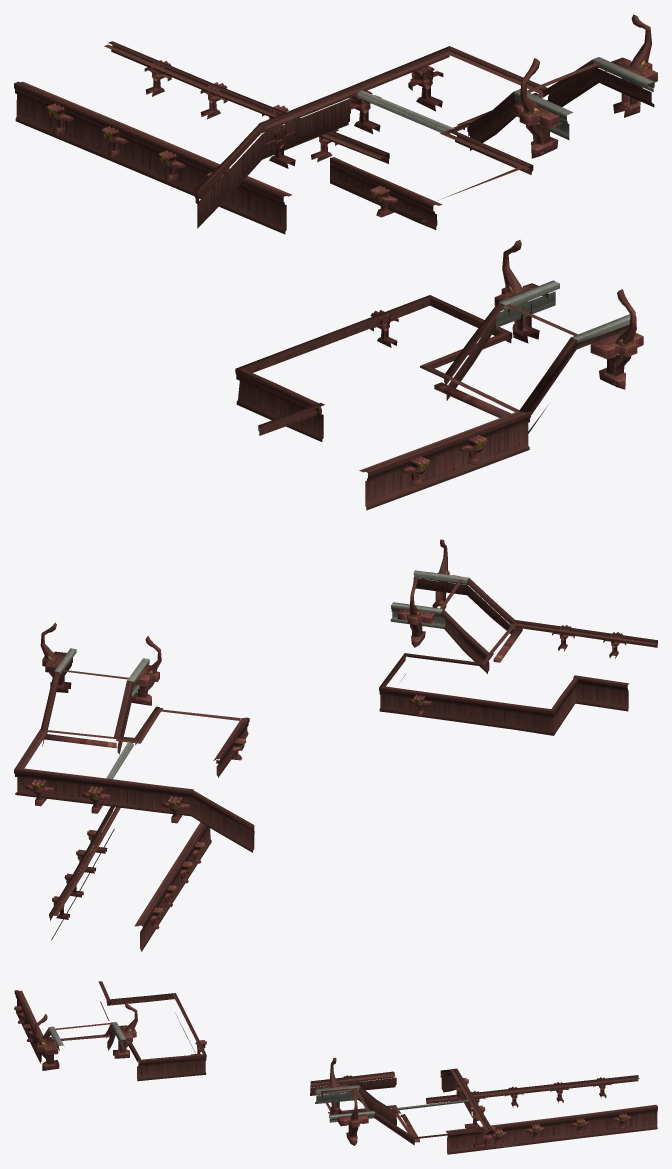
File: corps_01_wood_02.FBX
The picture shows the model from 3 angles, top to bottom: view 1: azimuth 30°, elevation 25°; view 2: azimuth 150°, elevation 25°; view 3: azimuth 270°, elevation 25°; orthographic projection. The views are drawn at different scales.
Parts seen in each view (by area): view 1: wood2; view 2: wood2; view 3: wood2.
Part boxes in pixels (<box>): wood2: <box>14,14,657,510</box>; wood2: <box>14,539,657,951</box>; wood2: <box>14,981,657,1154</box>.
Bounding box in the file's own units: 77.43 × 23.82 × 123.
